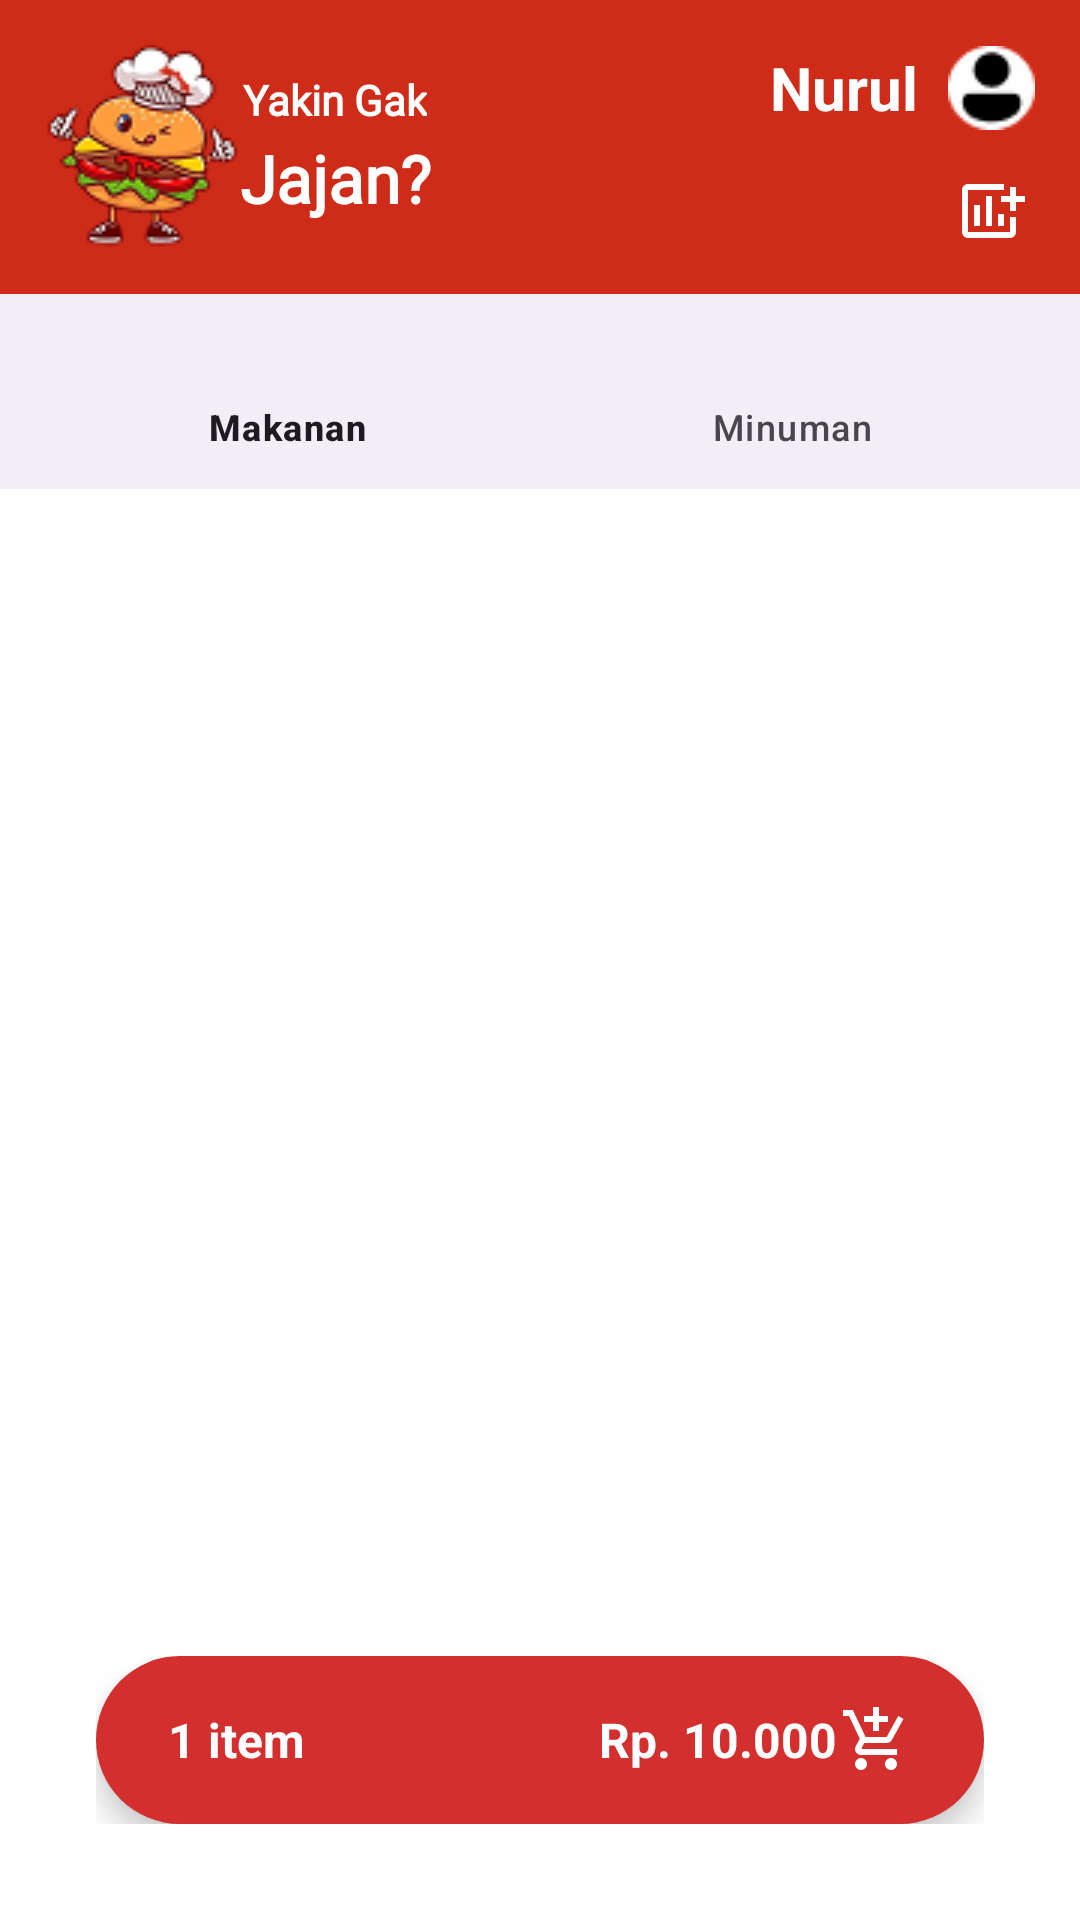

Where icons sit on this 1080x1920 app screen, as (x1, y1, x2, y2):
add chart: (962, 184, 1025, 238)
add shopping cart: (843, 1707, 904, 1770)
chefburger: (48, 45, 237, 246)
Profil: (948, 46, 1035, 130)
